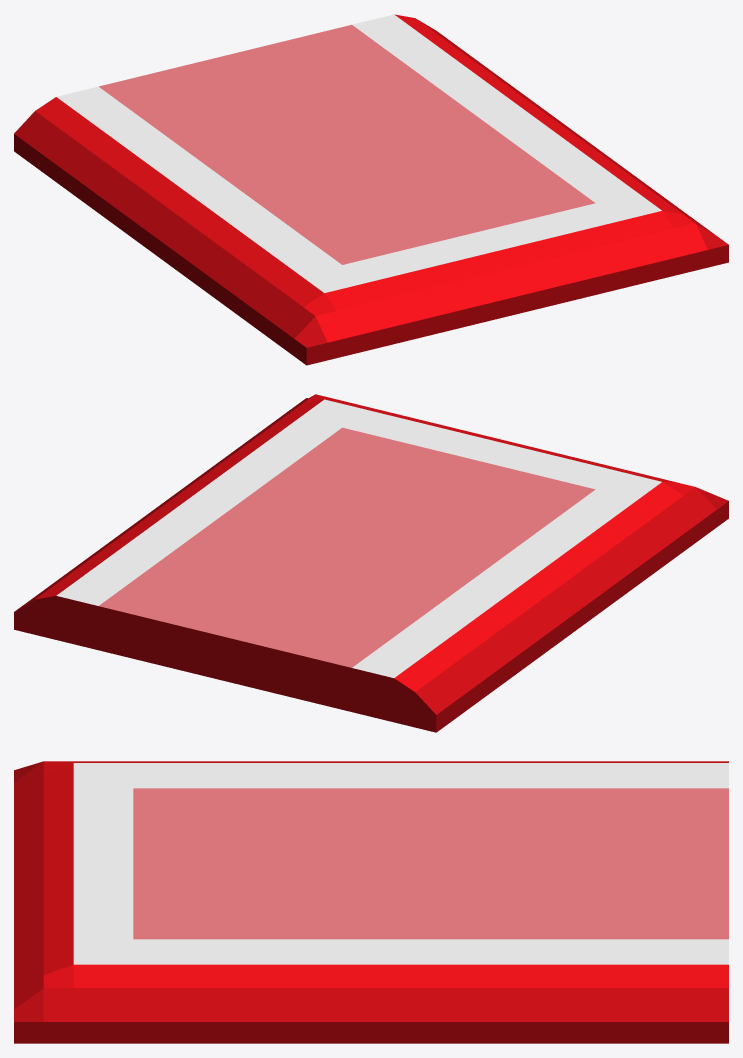
The model's file is s3End.fbx.
The picture shows the model from 3 angles, top to bottom: view 1: azimuth 30°, elevation 25°; view 2: azimuth 150°, elevation 25°; view 3: azimuth 270°, elevation 25°; orthographic projection. The views are drawn at different scales.
Parts seen in each view (by area): view 1: StraightEnd; view 2: StraightEnd; view 3: StraightEnd.
Boxes of the visible parts, x1=… form: StraightEnd: x1=14, y1=14, x2=728, y2=365; StraightEnd: x1=14, y1=394, x2=728, y2=732; StraightEnd: x1=14, y1=761, x2=728, y2=1043.
Bounding box in the file's own units: 10 × 1 × 12.
